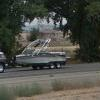Boat: (11, 38, 75, 76)
